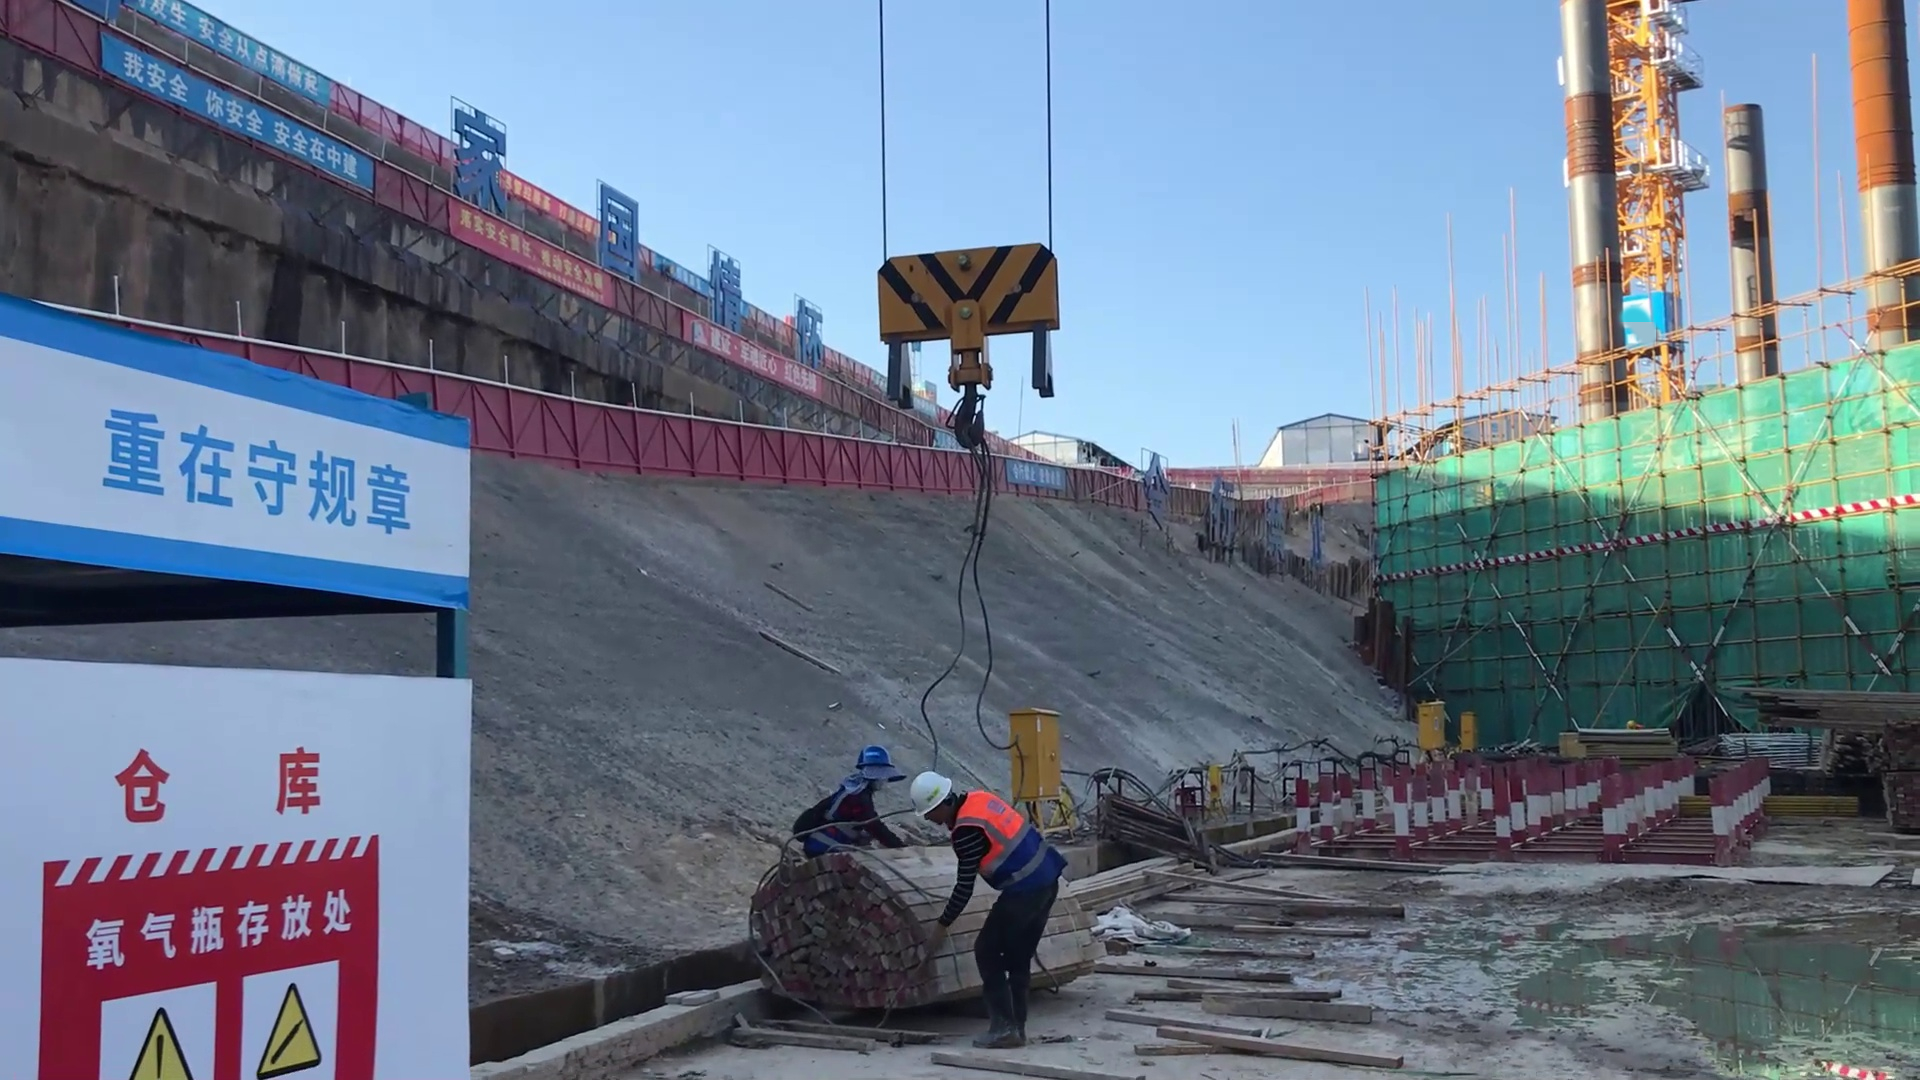ebox: (1003, 700, 1080, 794), (1416, 699, 1448, 750), (1459, 711, 1478, 750)
fence: (463, 374, 774, 487), (745, 433, 960, 499)
helmet: (906, 773, 948, 820), (854, 739, 888, 778)
hook: (877, 239, 1066, 413)
person: (911, 765, 1057, 1041), (797, 730, 911, 865)
slogan: (93, 60, 419, 293), (101, 397, 426, 550), (440, 207, 647, 360), (101, 956, 328, 1080), (169, 1, 336, 116)
vest: (932, 782, 1022, 856)
wood: (738, 868, 921, 1042), (1717, 664, 1920, 732)
